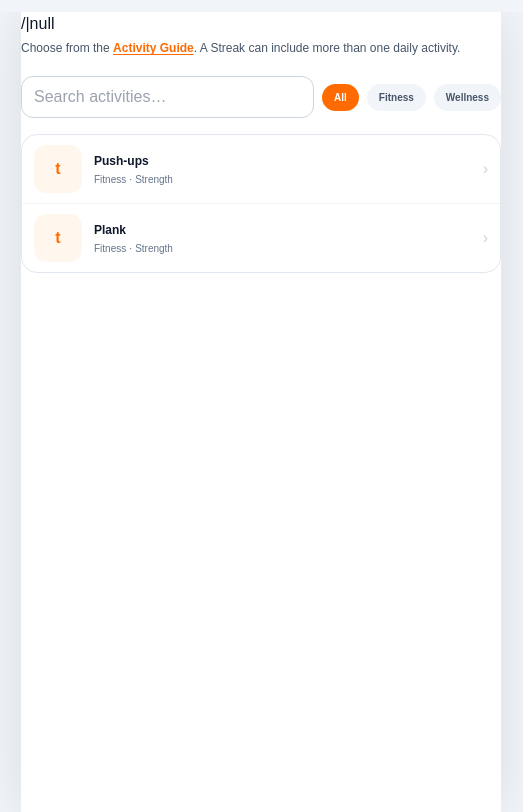
Test: ActivitiesStep — member Wizard behaviour (the default) › links to the Guide with the draft carried in router state and records the trip on a plain click only
The image size is (523, 812).
Click the link with aria-label "Open Push-ups" at [58, 169], box [22,135,500,203]
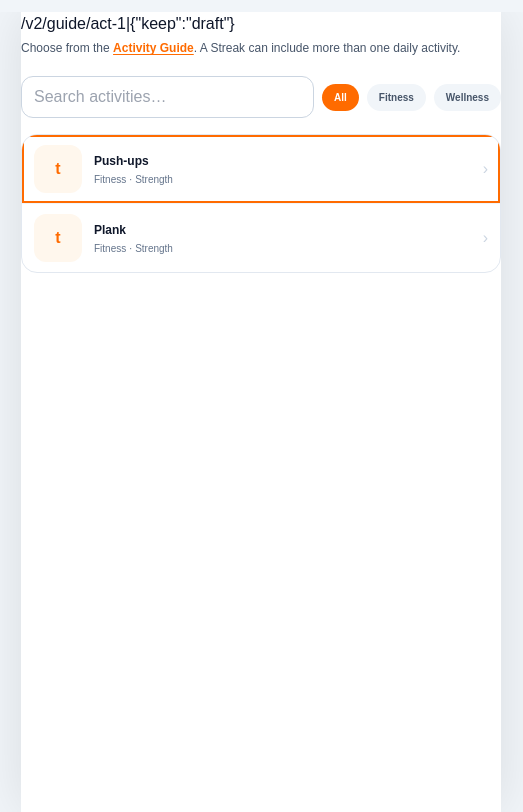
Check: the text with test id "where" reads "/v2/guide/act-1|{\"keep\":\"draft\"}", box [21,15,126,32]
